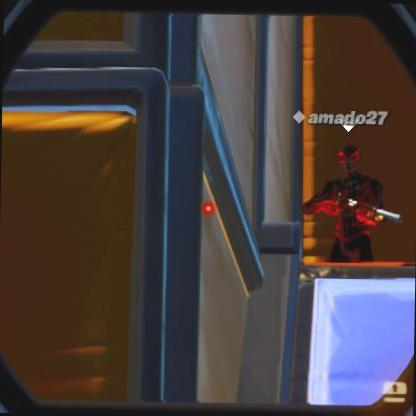person: (310, 152, 372, 277)
